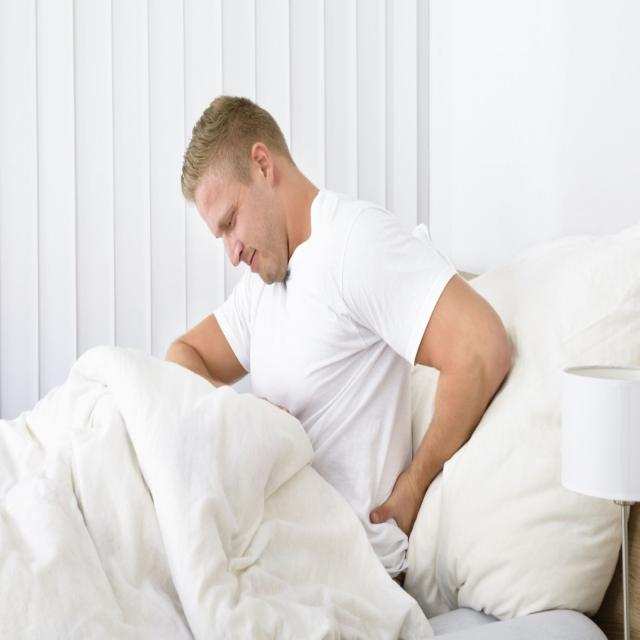adult: (162, 90, 513, 605)
